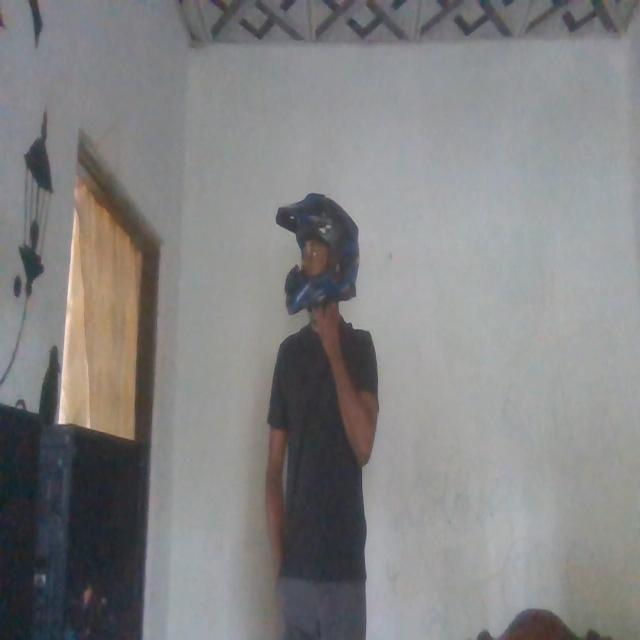Helmet_Wearer: (278, 184, 364, 333)
Person: (268, 183, 378, 640)
